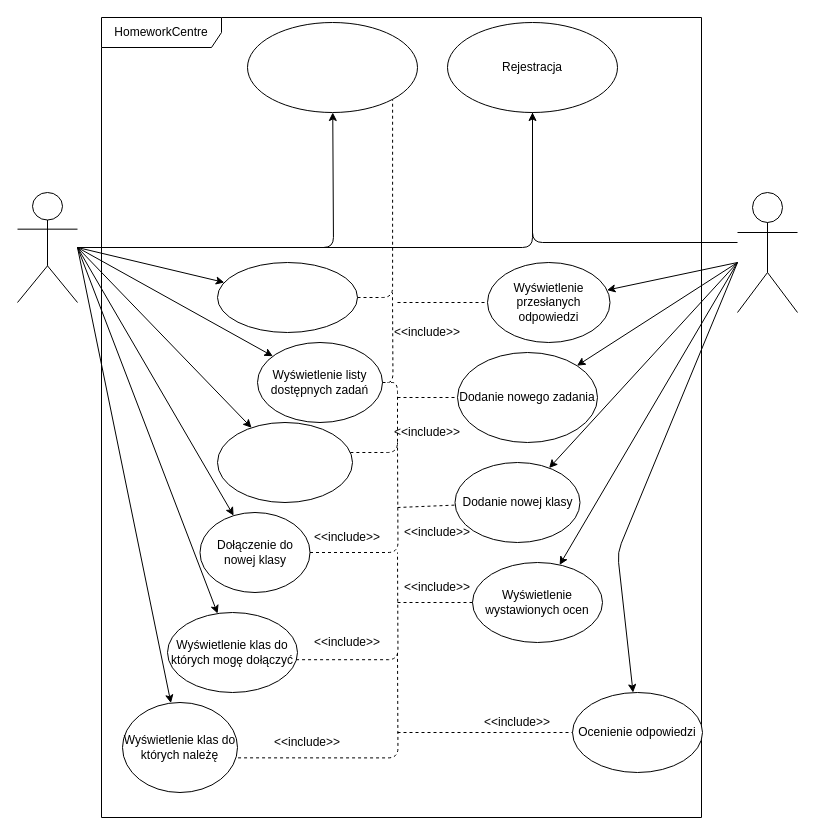
The diagram is 815 pixels wide and 835 high, and some of its shapes have lost their labels. The box of each missing label's shape, as (x1, y1, x2, y2) in pixels:
Dodanie odpowiedzi do konkretnego zadania: (216, 262, 358, 332)
Logowanie: (246, 22, 418, 112)
Nauczyciel: (736, 192, 798, 312)
Uczeń: (16, 192, 78, 302)
Wyświetlenie otrzymanych ocen: (216, 422, 352, 502)
